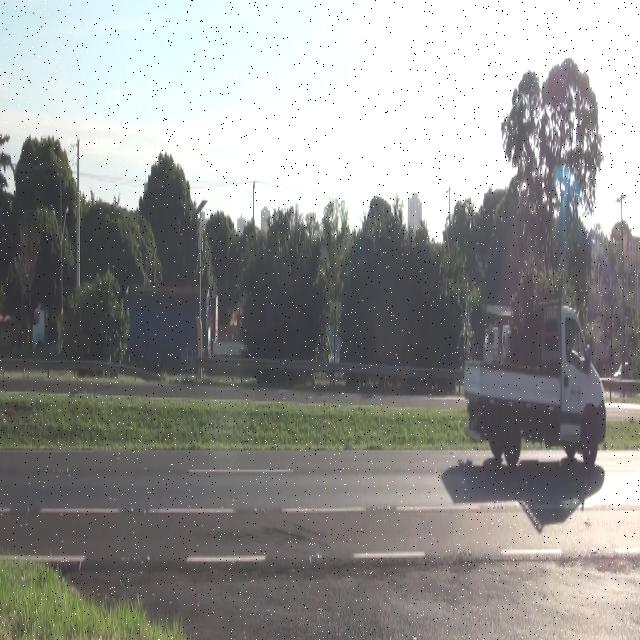-axle: (501, 416, 523, 476), (579, 411, 600, 464)
